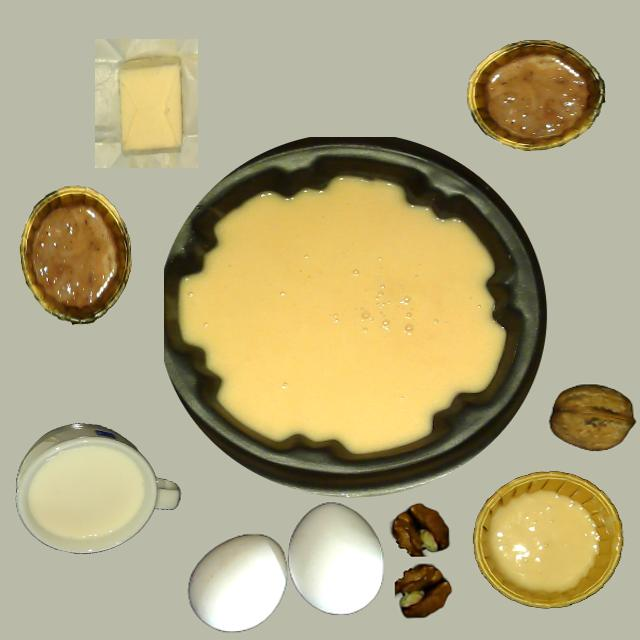Milk: (31, 448, 140, 538)
Walnut: (549, 384, 633, 452)
